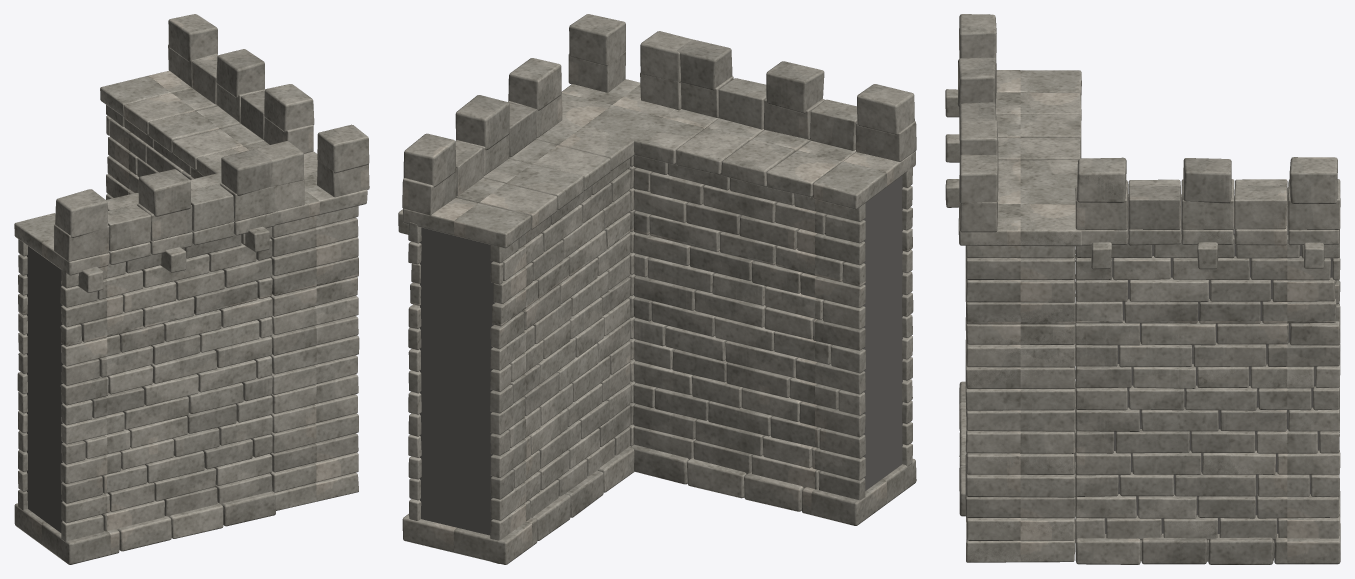
File: wall_corner.glb
3 renders of one model, left to right at view 1: azimuth 30°, elevation 25°; view 2: azimuth 150°, elevation 25°; view 3: azimuth 270°, elevation 25°, orthographic. The views are drawn at different scales.
Visible parts, largest first — view 1: Bonded ashlar course.002, Bonded ashlar course.003, Bonded ashlar course, Bonded ashlar course.011, Bonded ashlar course.001, Walkway dressed coping, Bonded ashlar course.009, Masonry recessed structural backing; view 2: Bonded ashlar course.003, Bonded ashlar course.011, Masonry recessed structural backing, Walkway dressed coping, Bonded ashlar course.001, Bonded ashlar course.009, Bonded ashlar course, Bonded ashlar course.002; view 3: Bonded ashlar course.011, Bonded ashlar course.003, Walkway dressed coping, Bonded ashlar course.001, Bonded ashlar course.002, Bonded ashlar course, Bonded ashlar course.009, Masonry recessed structural backing.
Part boxes in pixels (x1,y1,x2,y2): Bonded ashlar course.002: [18, 83, 358, 542]; Bonded ashlar course.003: [14, 49, 369, 564]; Bonded ashlar course: [18, 105, 369, 561]; Bonded ashlar course.011: [18, 14, 358, 551]; Bonded ashlar course.001: [17, 84, 359, 531]; Walkway dressed coping: [14, 70, 367, 292]; Bonded ashlar course.009: [18, 90, 358, 516]; Masonry recessed structural backing: [27, 246, 63, 532]; Bonded ashlar course.003: [408, 51, 916, 540]; Bonded ashlar course.011: [402, 31, 912, 517]; Masonry recessed structural backing: [420, 176, 902, 535]; Walkway dressed coping: [398, 79, 915, 248]; Bonded ashlar course.001: [408, 58, 914, 540]; Bonded ashlar course.009: [408, 39, 912, 563]; Bonded ashlar course: [402, 14, 912, 564]; Bonded ashlar course.002: [408, 72, 912, 498]; Bonded ashlar course.011: [959, 120, 1340, 564]; Bonded ashlar course.003: [957, 57, 1340, 564]; Walkway dressed coping: [945, 70, 1340, 269]; Bonded ashlar course.001: [959, 14, 1340, 539]; Bonded ashlar course.002: [959, 186, 1340, 562]; Bonded ashlar course: [959, 154, 1340, 564]; Bonded ashlar course.009: [959, 102, 1340, 564]; Masonry recessed structural backing: [1105, 197, 1332, 557].
Bounding box in the file's own units: 4.94 × 5.45 × 4.94.
8 materials, 7 textured.
